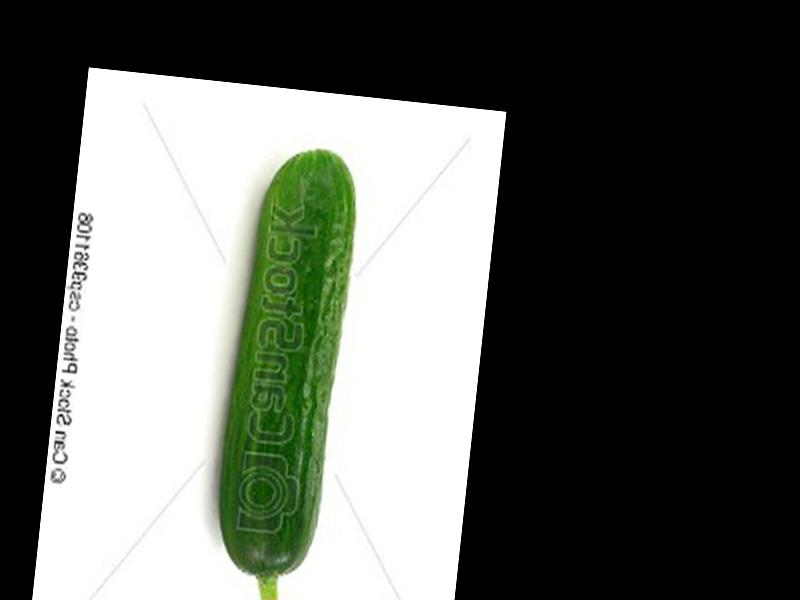Cucumber: (206, 139, 362, 600)
